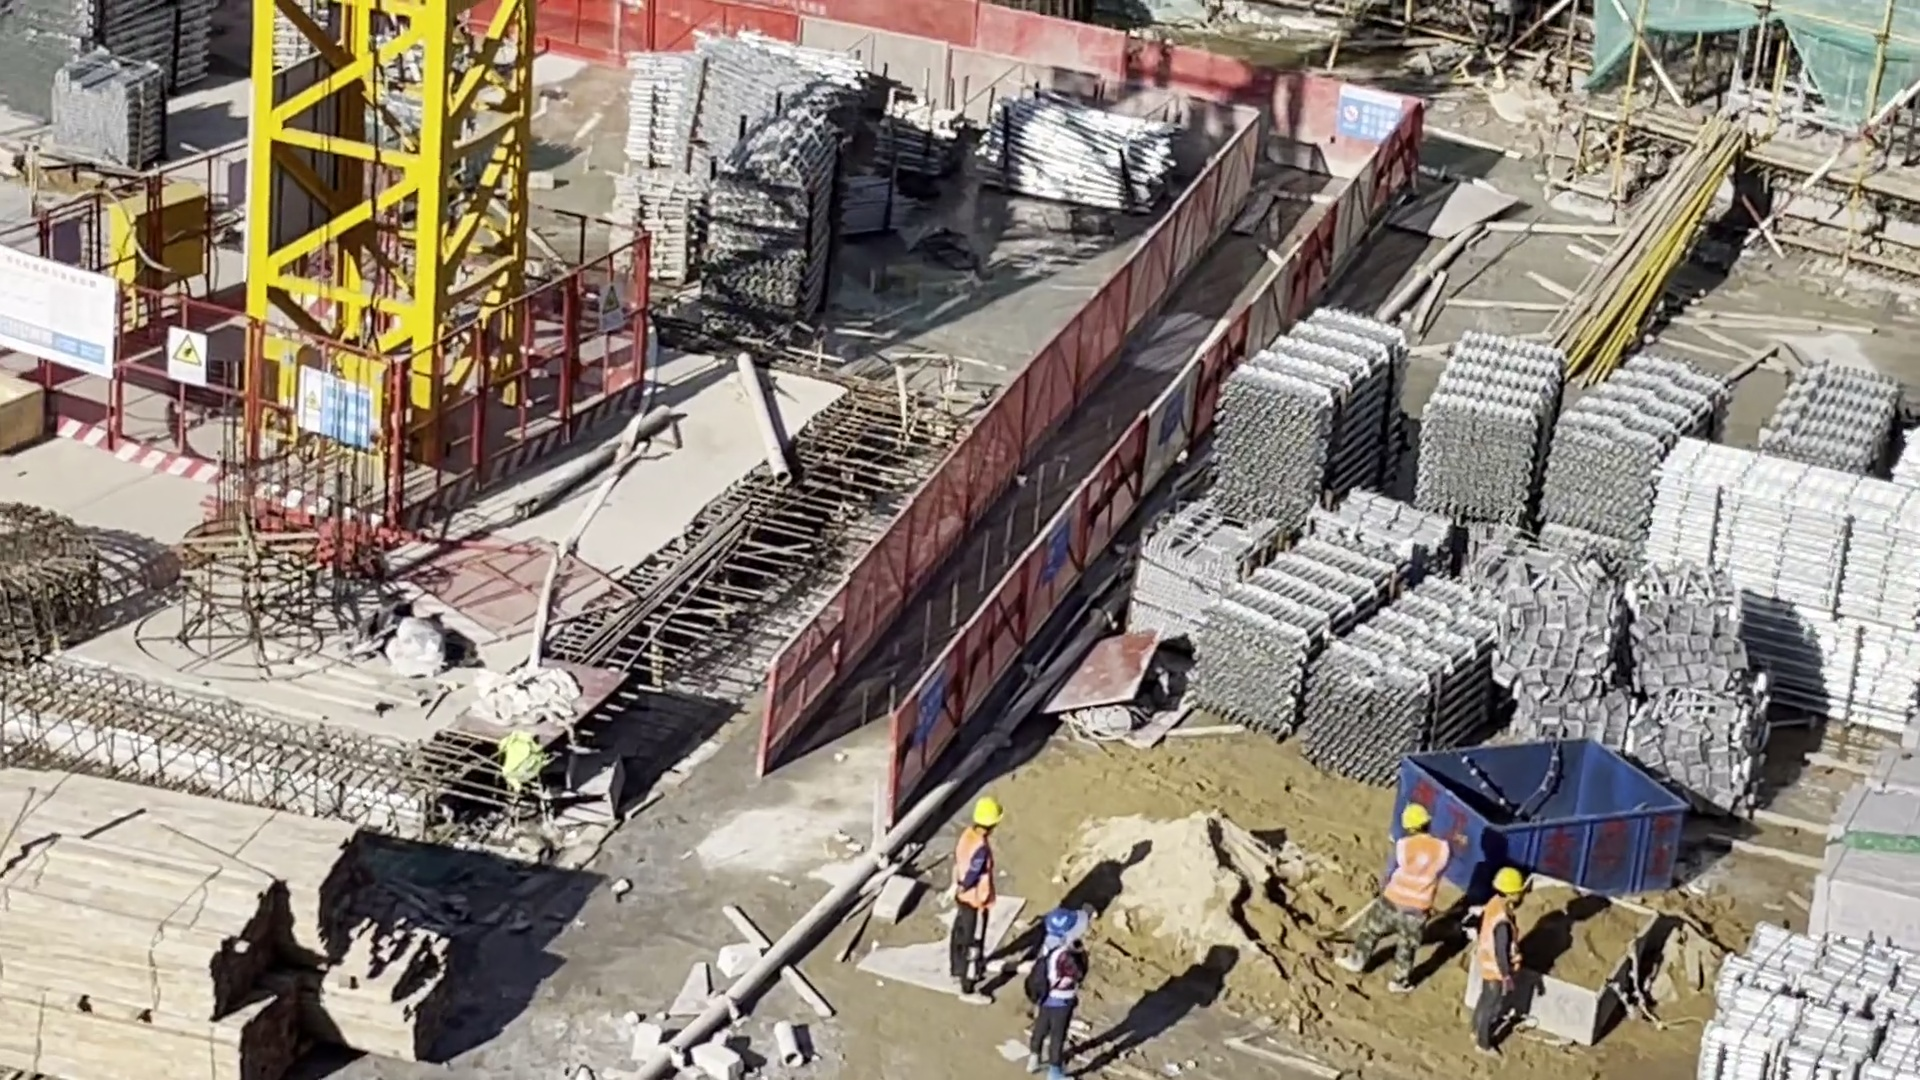fence: (775, 80, 1419, 753)
helmet: (1486, 862, 1535, 919), (965, 791, 1012, 841), (1398, 797, 1437, 831), (1038, 902, 1075, 936)
hopper: (1405, 728, 1680, 894), (1530, 859, 1666, 1043)
person: (1459, 861, 1531, 1054), (951, 798, 1011, 1002), (1377, 797, 1436, 996), (1030, 924, 1086, 1080)
scaffold: (1199, 296, 1920, 732), (633, 28, 1115, 274), (1711, 905, 1920, 1070)
slogan: (1349, 102, 1392, 142)
vest: (1389, 832, 1437, 923), (1478, 905, 1517, 981), (956, 834, 999, 899)
wood: (39, 774, 457, 1049)
